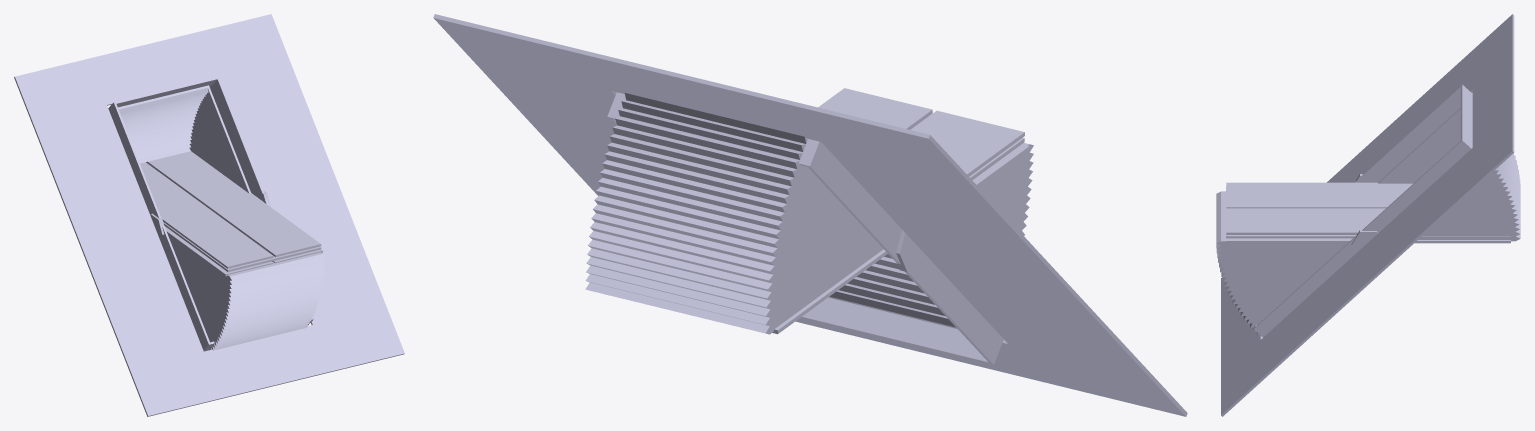
Rendered from RotateDock_000deg.glb.
The picture shows the model from 3 angles, left to right: view 1: azimuth 30°, elevation 25°; view 2: azimuth 150°, elevation 25°; view 3: azimuth 270°, elevation 25°; orthographic projection. The views are drawn at different scales.
Visible parts, largest first — view 1: copy_Body021, copy_LinkGroup004, copy_Body023, copy_Body022, copy_Body, copy_LinkGroup003; view 2: copy_Body021, copy_Body022, copy_Body, copy_LinkGroup004, copy_Body023, copy_LinkGroup003, copy_Body002; view 3: copy_Body021, copy_LinkGroup004, copy_Body023, copy_Body022, copy_Body, copy_LinkGroup003, copy_Body001.
Part boxes in pixels (x1,y1,x2,y2): copy_Body021: [14, 14, 404, 416]; copy_LinkGroup004: [140, 151, 321, 271]; copy_Body023: [168, 234, 324, 350]; copy_Body022: [118, 85, 250, 193]; copy_Body: [108, 77, 313, 351]; copy_LinkGroup003: [164, 226, 322, 276]; copy_Body021: [433, 14, 1187, 416]; copy_Body022: [585, 93, 883, 334]; copy_Body: [607, 92, 1003, 364]; copy_LinkGroup004: [818, 88, 1024, 179]; copy_Body023: [828, 143, 1033, 328]; copy_LinkGroup003: [772, 144, 1029, 334]; copy_Body002: [896, 229, 924, 271]; copy_Body021: [1221, 14, 1514, 416]; copy_LinkGroup004: [1226, 182, 1510, 238]; copy_Body023: [1216, 191, 1346, 335]; copy_Body022: [1378, 108, 1520, 241]; copy_Body: [1254, 84, 1472, 337]; copy_LinkGroup003: [1226, 238, 1510, 243]; copy_Body001: [1351, 230, 1377, 252].
Size of the model in its own units: 1.68 by 1.52 by 1.57.
